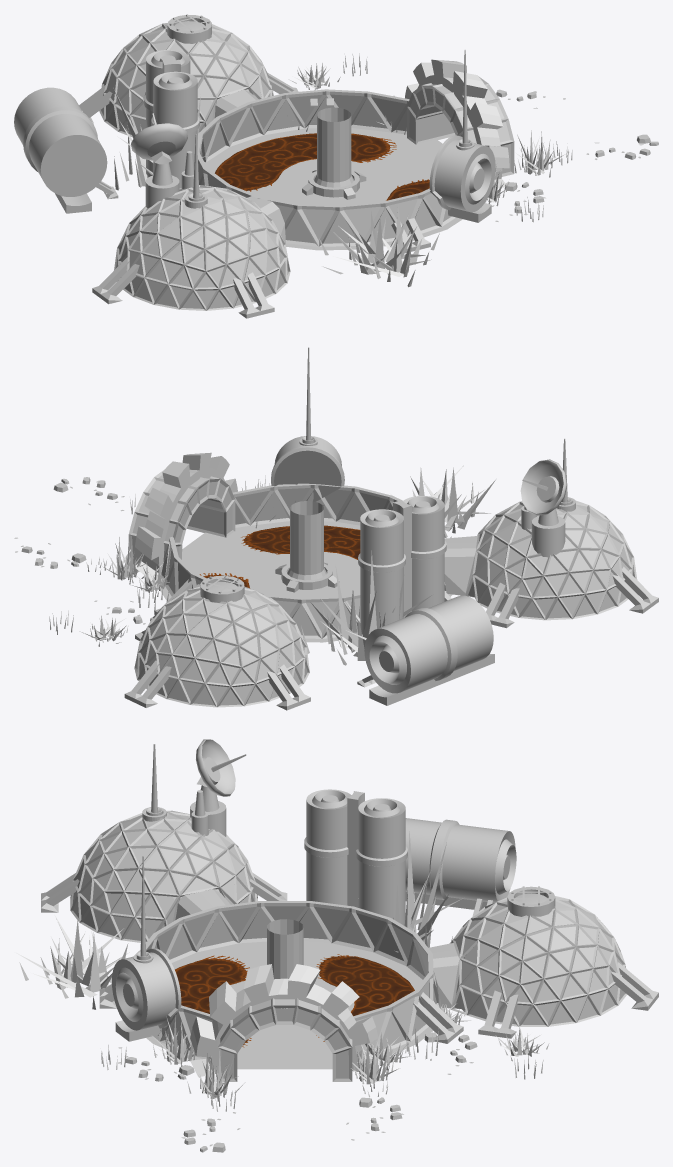
Rendered from Iglu_VIctoria_interior.fbx.
The picture shows the model from 3 angles, top to bottom: view 1: azimuth 30°, elevation 25°; view 2: azimuth 150°, elevation 25°; view 3: azimuth 270°, elevation 25°; orthographic projection. The views are drawn at different scales.
Parts seen in each view (by area): view 1: Icosphere.002, Icosphere.005, Icosphere.003, Cylinder.002, Icosphere.004, Cylinder.005, TexturaPisoHome.000, Cylinder.006, Icosphere.001, Gear.001, Cone.006, Luz (+14 smaller); view 2: Icosphere.003, Icosphere.002, Cylinder.002, Cylinder.005, Icosphere.005, Icosphere.004, Icosphere.001, Gear.001, Cylinder.006, Luz, Cone.009, TexturaPisoHome.001 (+10 smaller); view 3: Icosphere.003, Icosphere.002, Icosphere.005, Cylinder.005, Cylinder.002, Icosphere.004, Gear.001, Icosphere.001, Cylinder.006, TexturaPisoHome.000, Cone.006, TexturaPisoHome.001 (+14 smaller).
Boxes of the visible parts, x1=… form: Icosphere.002: x1=114, y1=185, x2=290, y2=310; Icosphere.005: x1=197, y1=89, x2=455, y2=246; Icosphere.003: x1=99, y1=23, x2=273, y2=137; Cylinder.002: x1=14, y1=87, x2=118, y2=213; Icosphere.004: x1=205, y1=128, x2=462, y2=250; Cylinder.005: x1=144, y1=50, x2=199, y2=188; TexturaPisoHome.000: x1=215, y1=133, x2=396, y2=191; Cylinder.006: x1=429, y1=135, x2=495, y2=222; Icosphere.001: x1=407, y1=76, x2=514, y2=176; Gear.001: x1=405, y1=59, x2=509, y2=188; Cone.006: x1=319, y1=204, x2=439, y2=287; Luz: x1=317, y1=107, x2=351, y2=182; Icosphere.003: x1=134, y1=586, x2=309, y2=707; Icosphere.002: x1=444, y1=500, x2=637, y2=620; Cylinder.002: x1=357, y1=595, x2=494, y2=705; Cylinder.005: x1=358, y1=496, x2=446, y2=634; Icosphere.005: x1=160, y1=483, x2=446, y2=638; Icosphere.004: x1=154, y1=521, x2=452, y2=642; Icosphere.001: x1=128, y1=469, x2=235, y2=565; Gear.001: x1=134, y1=452, x2=237, y2=580; Cylinder.006: x1=271, y1=436, x2=344, y2=505; Luz: x1=290, y1=501, x2=323, y2=575; Cone.009: x1=301, y1=550, x2=431, y2=665; TexturaPisoHome.001: x1=241, y1=525, x2=360, y2=559; Icosphere.003: x1=428, y1=896, x2=627, y2=1026; Icosphere.002: x1=70, y1=810, x2=257, y2=942; Icosphere.005: x1=139, y1=901, x2=438, y2=1058; Cylinder.005: x1=304, y1=789, x2=407, y2=925; Cylinder.002: x1=405, y1=818, x2=516, y2=916; Icosphere.004: x1=146, y1=941, x2=445, y2=1069; Gear.001: x1=190, y1=964, x2=378, y2=1077; Icosphere.001: x1=217, y1=998, x2=352, y2=1081; Cylinder.006: x1=112, y1=948, x2=181, y2=1041; TexturaPisoHome.000: x1=316, y1=954, x2=414, y2=1041; Cone.006: x1=16, y1=915, x2=140, y2=1009; TexturaPisoHome.001: x1=175, y1=955, x2=251, y2=1047.
Size of the model in its own units: 1434 by 423 by 1297.
